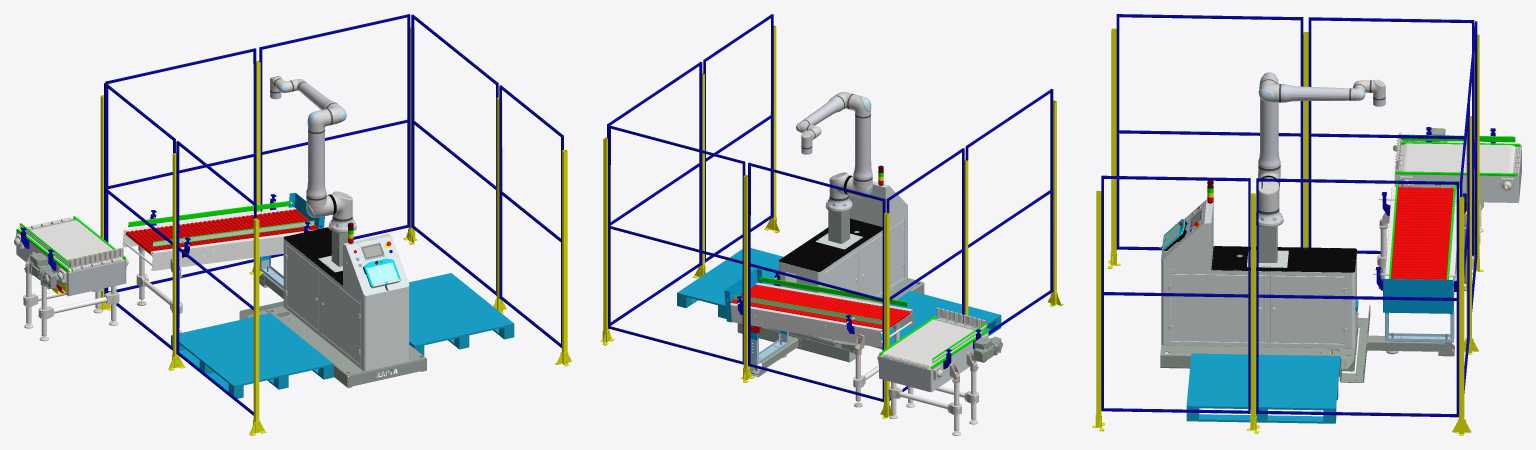
File: 11-base-esteira-90-esquerda-convertedora-gradil.glb
3 views of the same model, side by side, from view 1: azimuth 30°, elevation 25°; view 2: azimuth 150°, elevation 25°; view 3: azimuth 270°, elevation 25° (orthographic). The views are drawn at different scales.
Parts seen in each view (by area): view 1: KAPTA_AR_ORIENTACAO_FINAL; view 2: KAPTA_AR_ORIENTACAO_FINAL; view 3: KAPTA_AR_ORIENTACAO_FINAL.
Boxes of the visible parts, left/top/right/bottom form: KAPTA_AR_ORIENTACAO_FINAL: left=14, top=14, right=571, bottom=435; KAPTA_AR_ORIENTACAO_FINAL: left=600, top=14, right=1063, bottom=435; KAPTA_AR_ORIENTACAO_FINAL: left=1092, top=14, right=1521, bottom=435.
Size of the model in its own units: 4.06 by 2.33 by 3.45.
